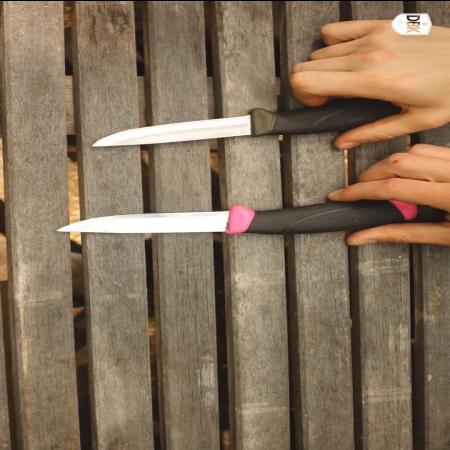long weapon: (85, 62, 389, 149), (49, 184, 389, 240)
